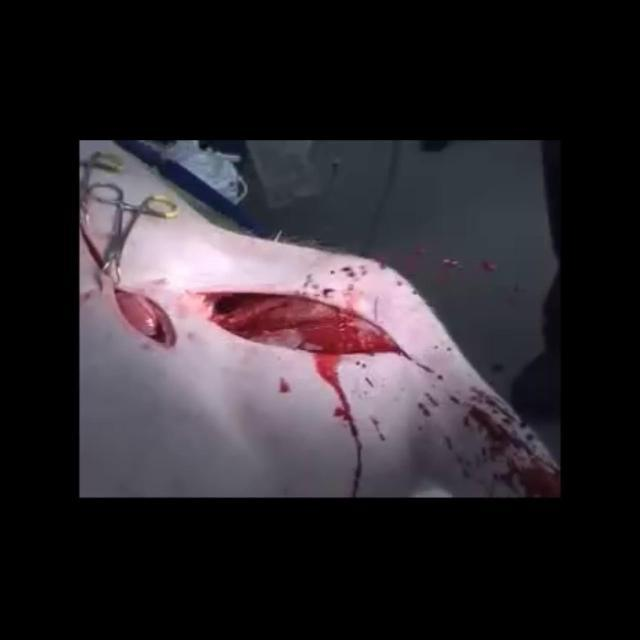blood: (200, 253, 561, 497), (278, 377, 292, 393)
